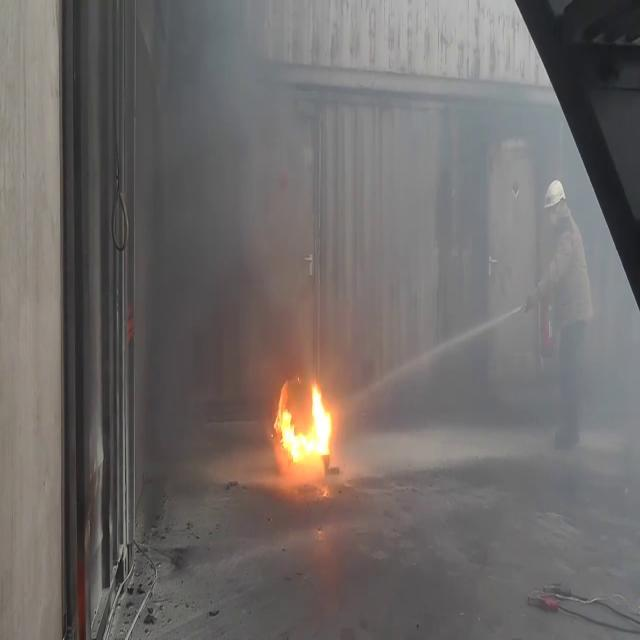Fire: (272, 375, 336, 475)
Smoke: (123, 4, 424, 378)
